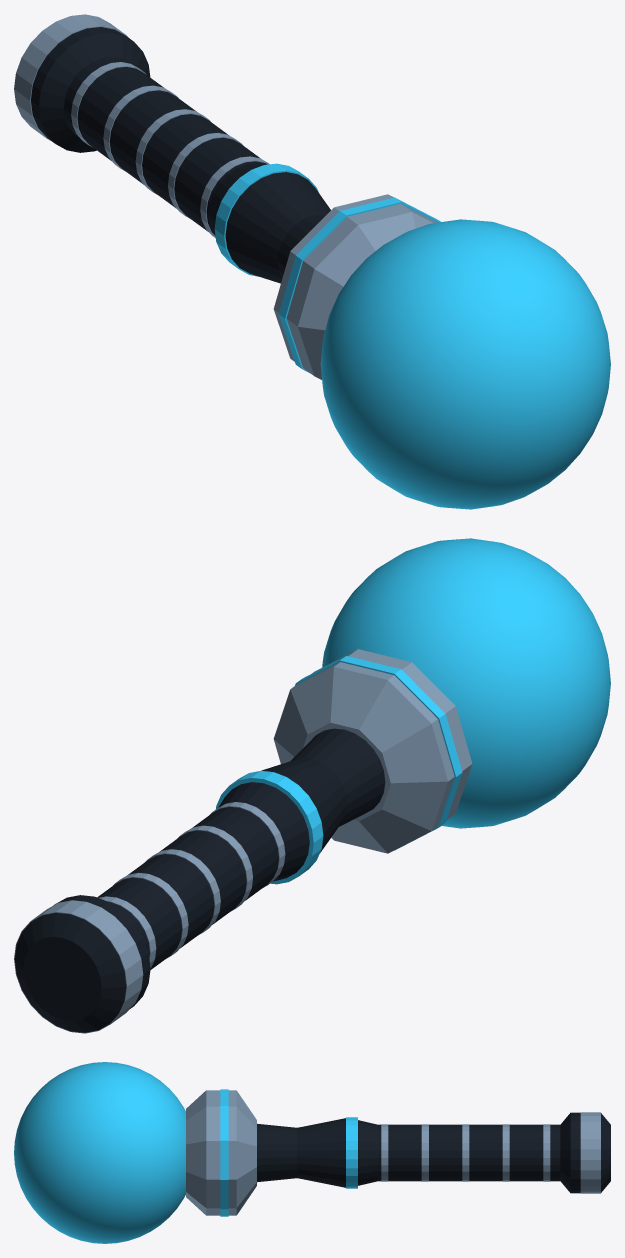
The model's file is SM_StellarHealing.obj.
The picture shows the model from 3 angles, top to bottom: view 1: azimuth 30°, elevation 25°; view 2: azimuth 150°, elevation 25°; view 3: azimuth 270°, elevation 25°; orthographic projection. The views are drawn at different scales.
Visible parts, largest first — view 1: SM_StellarHealing; view 2: SM_StellarHealing; view 3: SM_StellarHealing.
Boxes of the visible parts, <box> form: SM_StellarHealing: <box>14,14,610,509</box>; SM_StellarHealing: <box>14,538,610,1033</box>; SM_StellarHealing: <box>14,1062,610,1243</box>.
Bounding box in the file's own units: 18 × 18 × 59.
